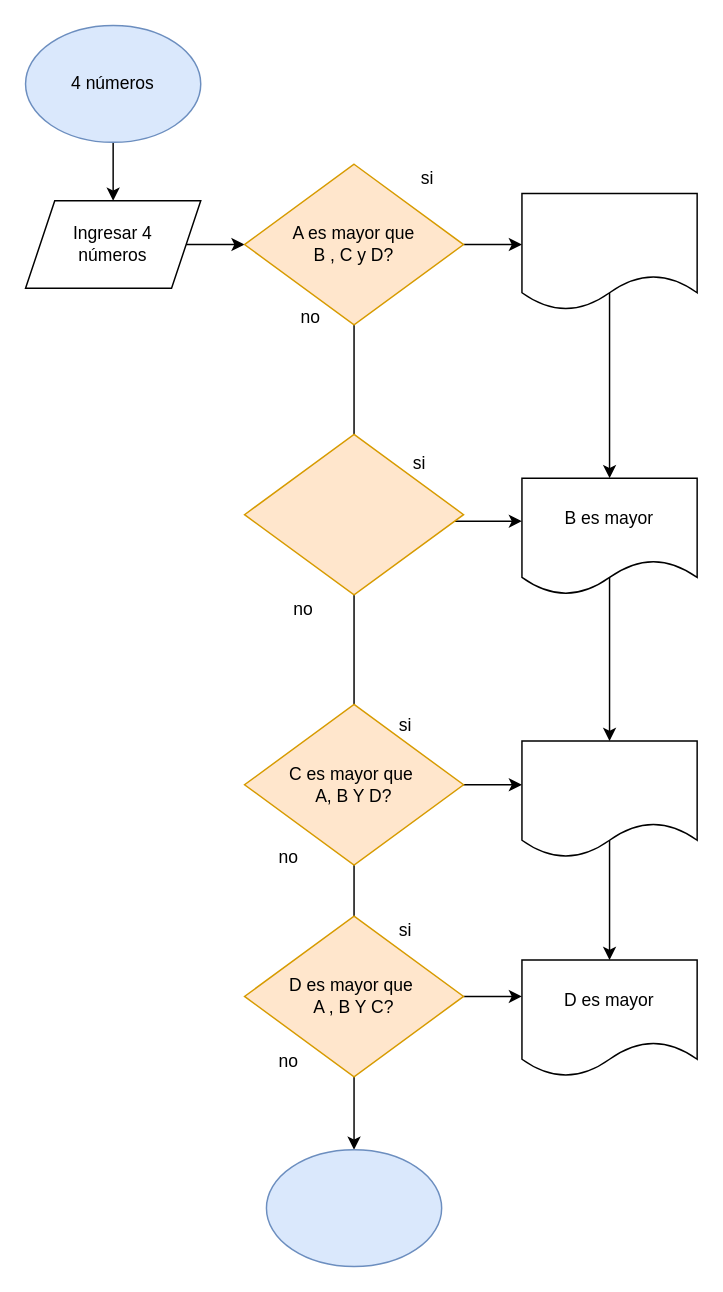
Image size: 723x1292. Some labels were removed from this diagram. The centre of each missing label's shape, as x and y in pixels:
A es mayor: the point at 608,251
B es mayor que A , C Y D?: the point at 353,514
C es mayor: the point at 608,798
Finaliza proceso: the point at 353,1207
